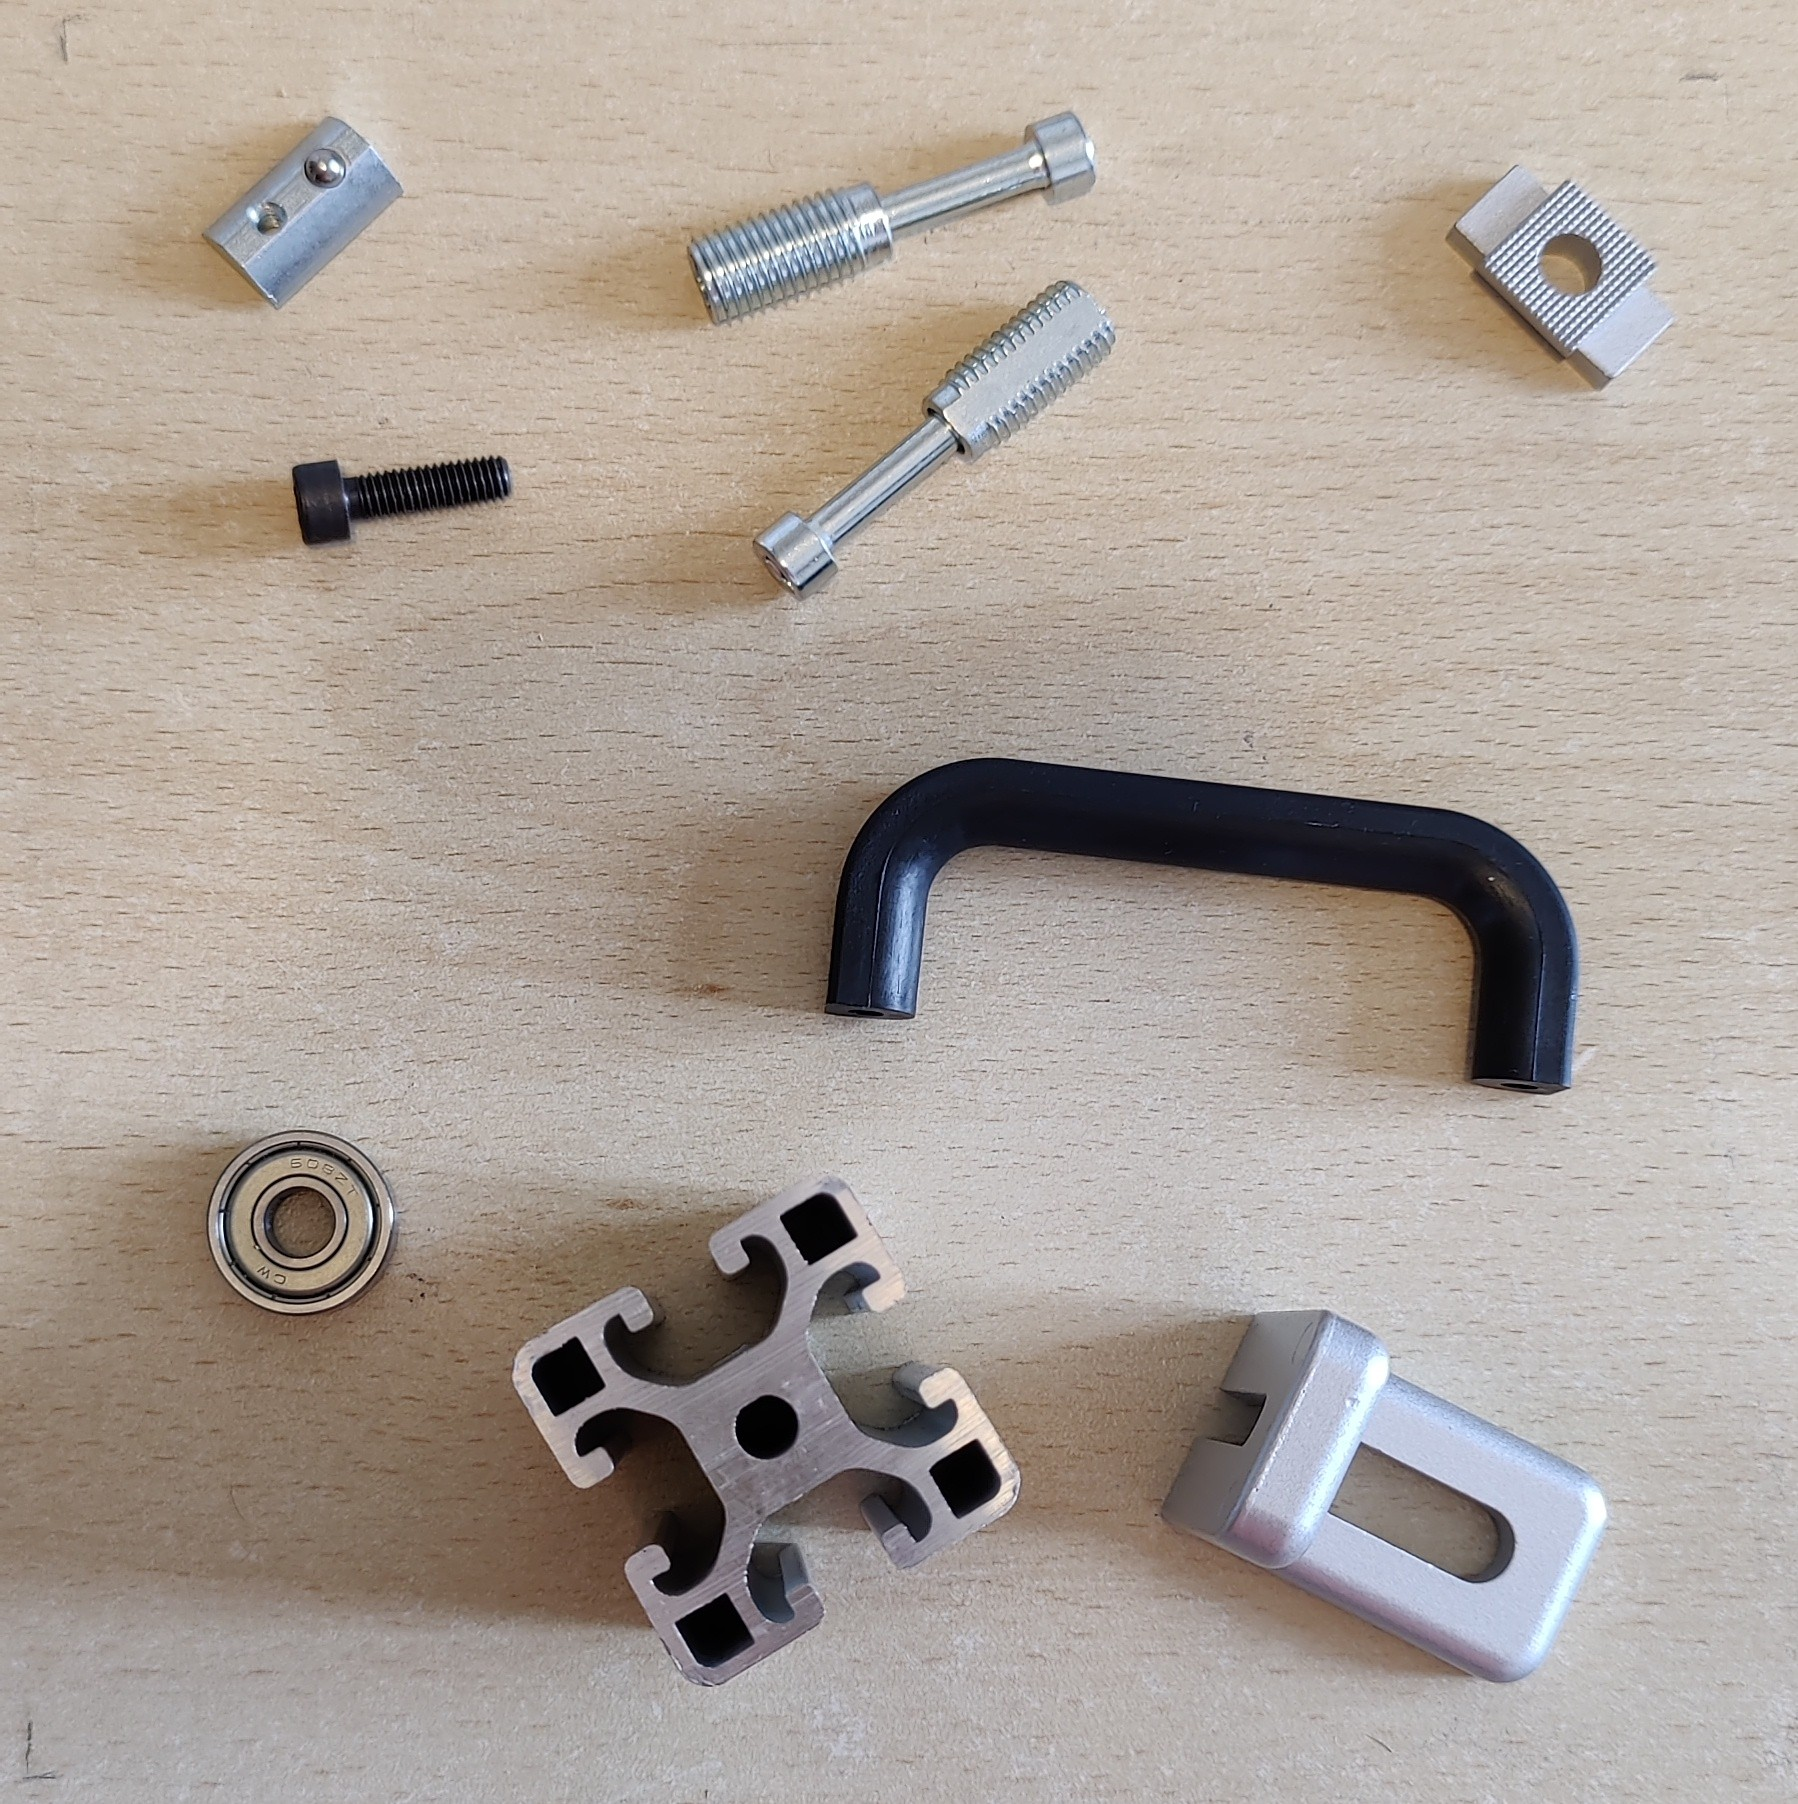Aluminium Extension: (510, 1174, 1024, 1689)
Ball Bearing: (203, 1127, 400, 1318)
Multiwinkel: (1158, 1310, 1609, 1685)
Pull Handle: (818, 756, 1586, 1100)
Shoulder Socket Head Cap Screw: (751, 275, 1120, 606), (682, 110, 1100, 331)
Socket Head Cap Screw: (290, 451, 517, 550)
T Nut Square: (1441, 161, 1679, 392)
T Spring Nut: (198, 110, 408, 311)
